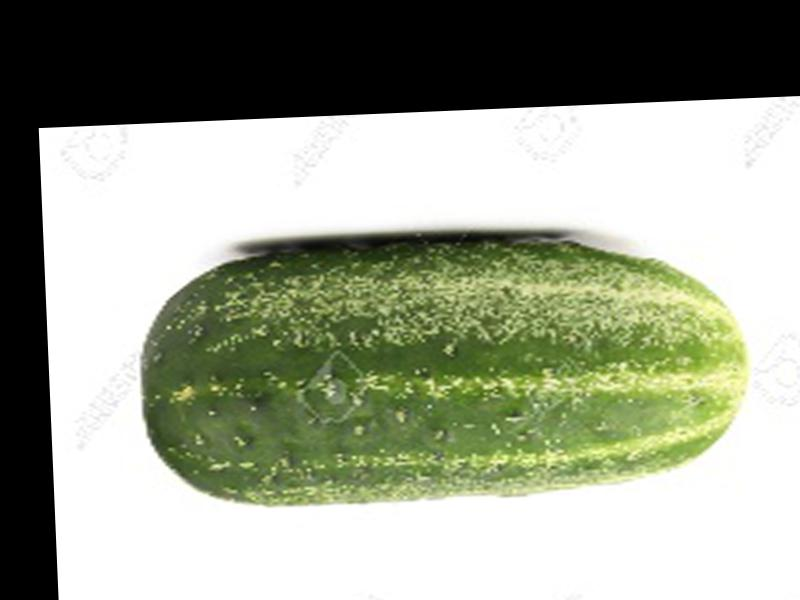Cucumber: (131, 225, 748, 512)
